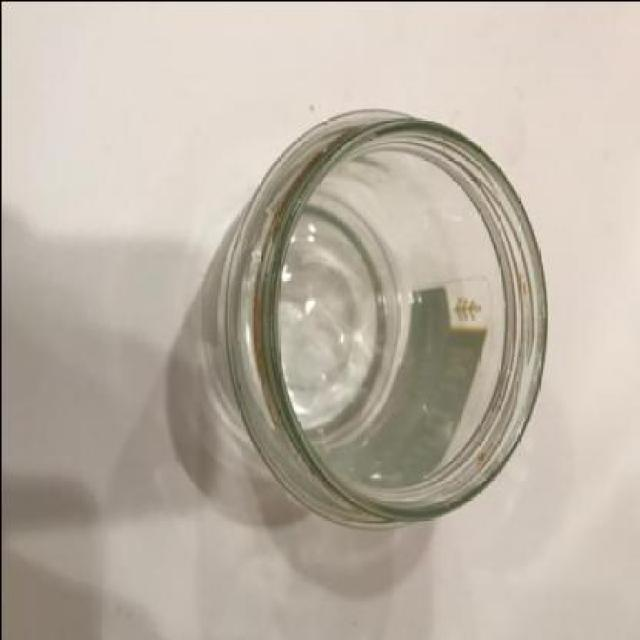GLASS: (202, 107, 546, 524)
